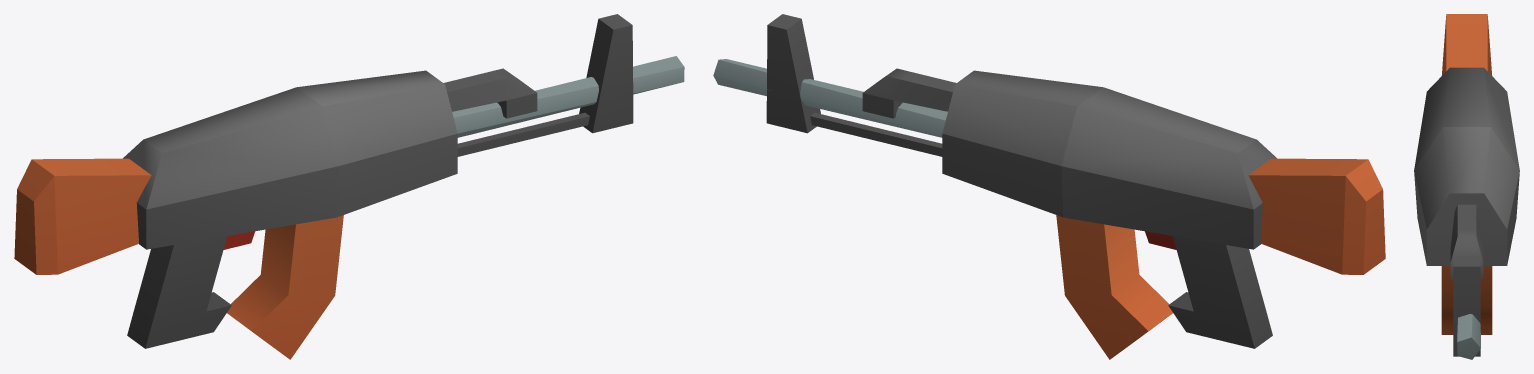
Rendered from Assaoult.fbx.
The picture shows the model from 3 angles, left to right: view 1: azimuth 30°, elevation 25°; view 2: azimuth 150°, elevation 25°; view 3: azimuth 270°, elevation 25°; orthographic projection. The views are drawn at different scales.
Parts seen in each view (by area): view 1: Weapon3; view 2: Weapon3; view 3: Weapon3.
Part boxes in pixels (x1,y1,x2,y2): Weapon3: (14, 14, 684, 359); Weapon3: (713, 14, 1385, 359); Weapon3: (1414, 14, 1519, 359).
Size of the model in its own units: 9.65 by 3.46 by 1.49.
